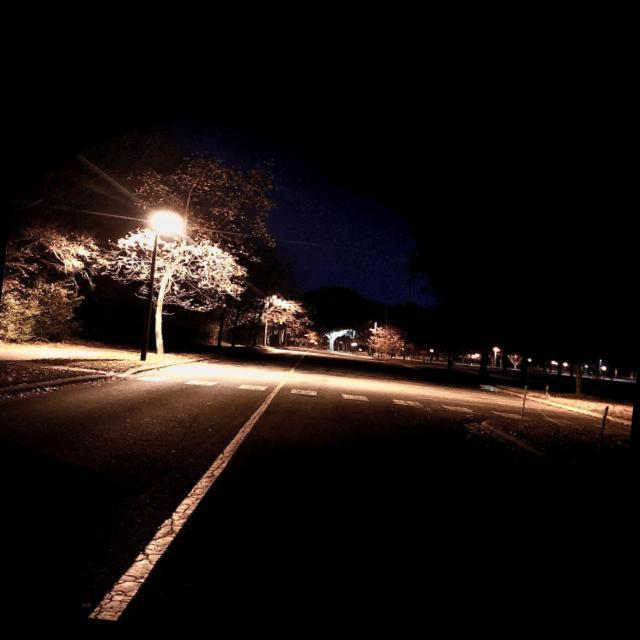on: (128, 186, 212, 257)
